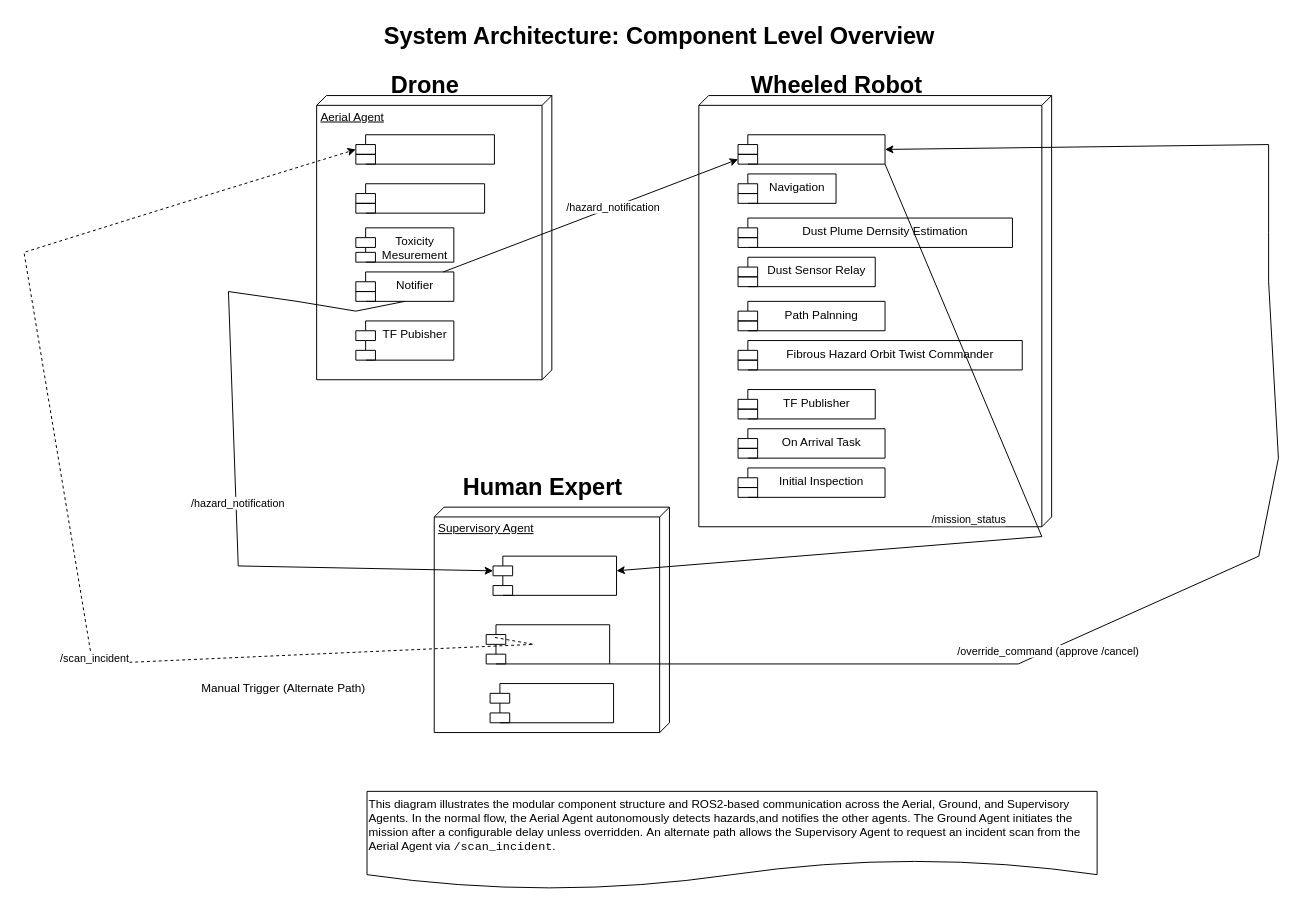
Some shapes in this 1303 by 907 pixel diagram are drawn without their labels. The shapes that lost their labels are listed below. From the top down, each one's box as (x1, y1, x2, y2) in pixels, then its label:
(355, 134, 494, 164): Crazyflie Patrol
(737, 134, 885, 164): Mission Handler
(355, 183, 485, 213): Hazard Detection
(698, 95, 1052, 527): Ground Agent
(492, 555, 617, 595): Alert Receiver
(485, 624, 610, 664): Mission Overrider
(489, 683, 614, 723): UI Interface
